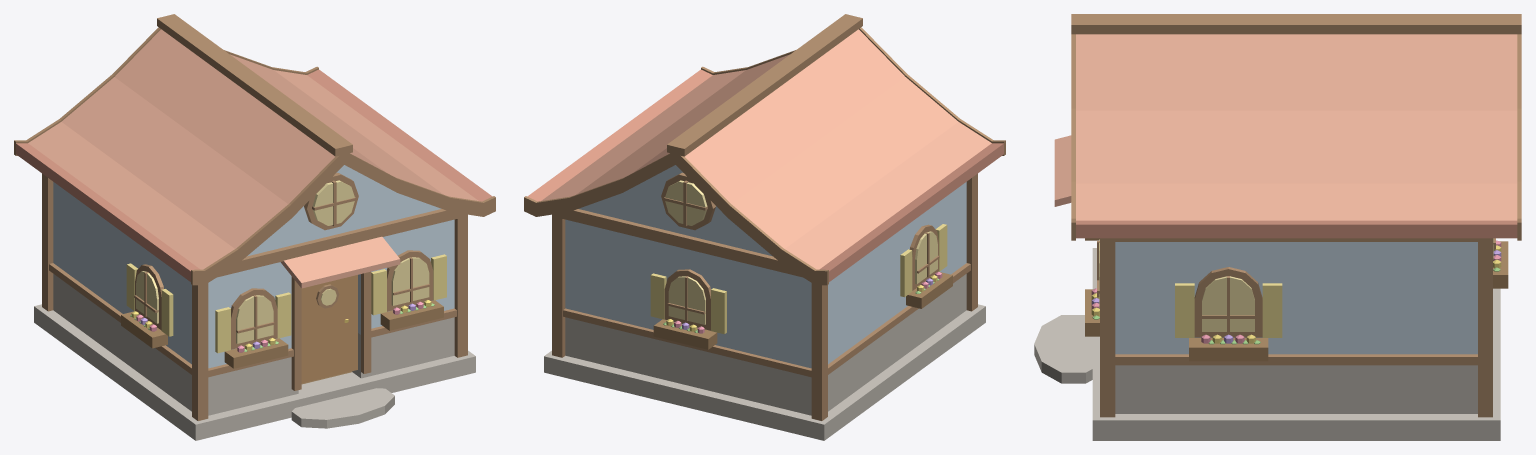
The model's file is inn_sky.glb.
The picture shows the model from 3 angles, left to right: view 1: azimuth 30°, elevation 25°; view 2: azimuth 150°, elevation 25°; view 3: azimuth 270°, elevation 25°; orthographic projection. The views are drawn at different scales.
Visible parts, largest first — view 1: Player; view 2: Player; view 3: Player.
Part boxes in pixels (left/top/right/bottom): Player: left=14, top=14, right=495, bottom=440; Player: left=524, top=14, right=1005, bottom=440; Player: left=1034, top=14, right=1521, bottom=440.
Bounding box in the file's own units: 5.84 × 4.9 × 6.45.
